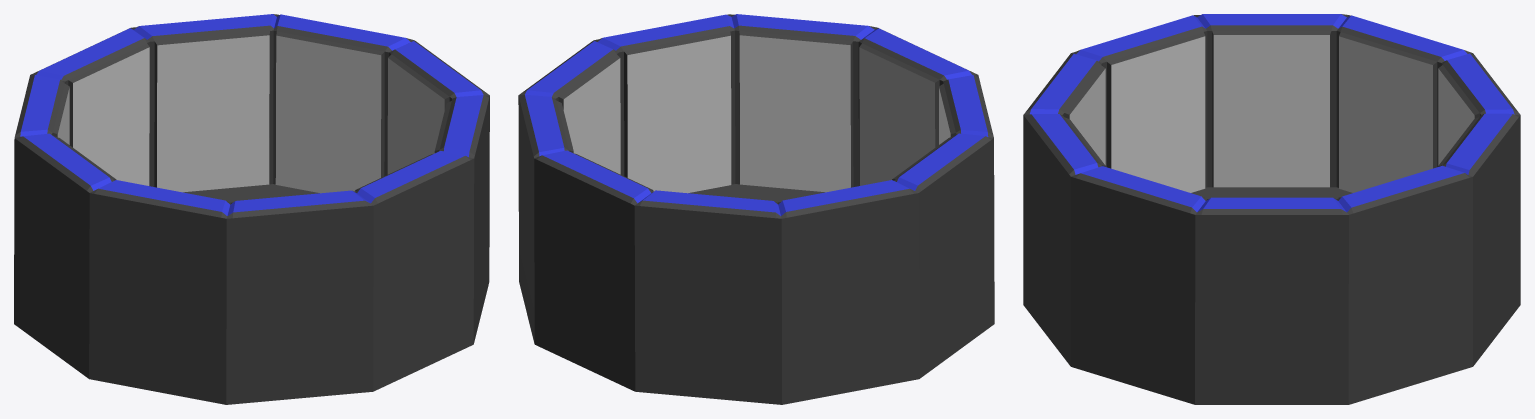
File: pipe.fbx
3 renders of one model, left to right at view 1: azimuth 30°, elevation 25°; view 2: azimuth 150°, elevation 25°; view 3: azimuth 270°, elevation 25°, orthographic. The views are drawn at different scales.
Parts seen in each view (by area): view 1: Circle; view 2: Circle; view 3: Circle.
Part boxes in pixels (<box>): Circle: <box>14,14,489,404</box>; Circle: <box>518,14,994,404</box>; Circle: <box>1023,14,1520,404</box>.
Size of the model in its own units: 190 by 85.99 by 200.
